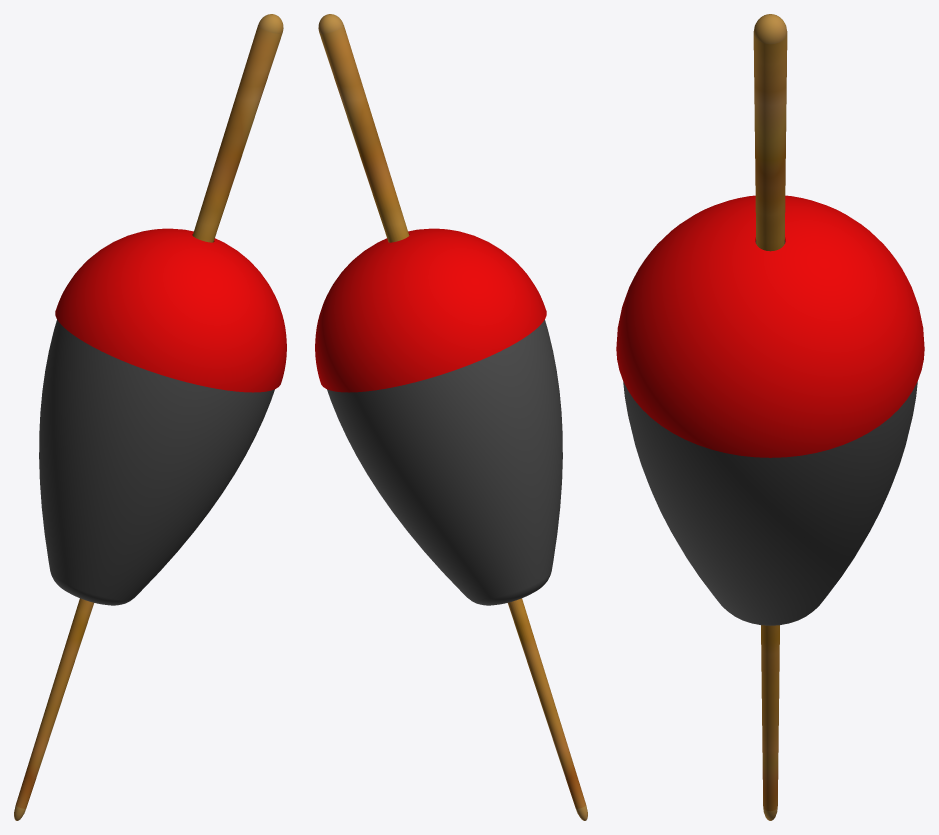
Rendered from Float.fbx.
3 renders of one model, left to right at view 1: azimuth 30°, elevation 25°; view 2: azimuth 150°, elevation 25°; view 3: azimuth 270°, elevation 25°, orthographic. The views are drawn at different scales.
Parts seen in each view (by area): view 1: Float (×3); view 2: Float (×3); view 3: Float (×3).
Boxes of the visible parts, x1,y1,x2,y2 form: Float (×3): [14, 14, 286, 820]; Float (×3): [315, 14, 587, 820]; Float (×3): [616, 14, 924, 820].
Size of the model in its own units: 40.32 by 107 by 31.
3 materials, 1 textured.
